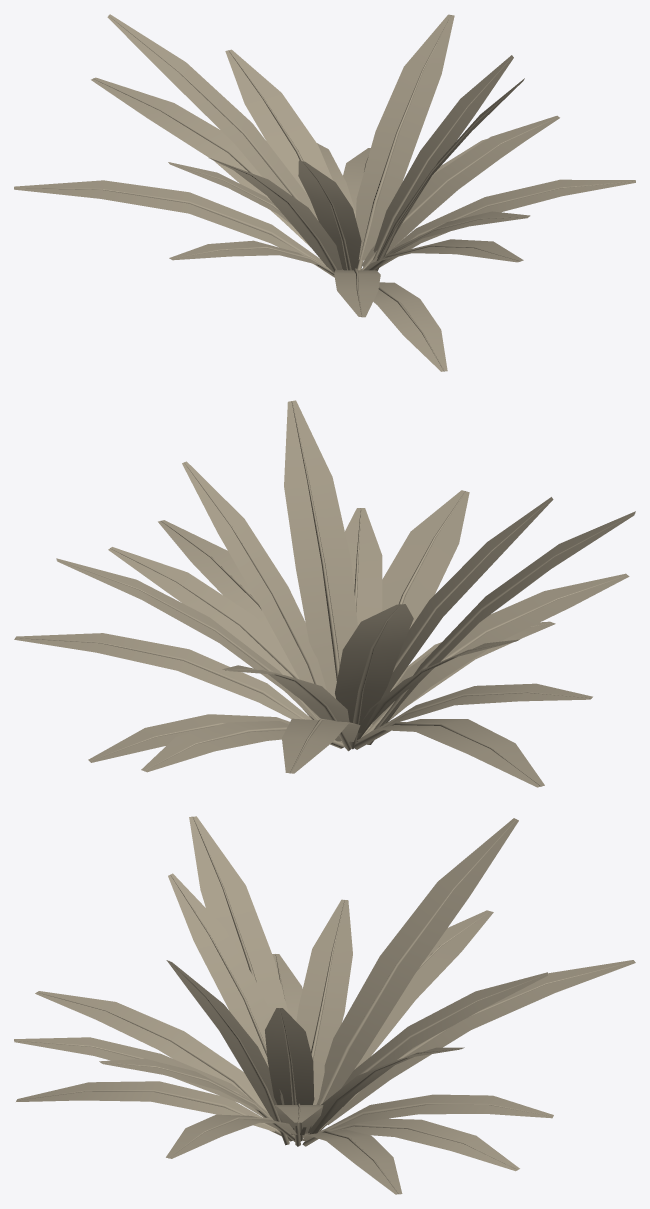
Rendered from SM_IndoorPlant_Fern_01.fbx.
3 renders of one model, top to bottom at view 1: azimuth 30°, elevation 25°; view 2: azimuth 150°, elevation 25°; view 3: azimuth 270°, elevation 25°, orthographic. The views are drawn at different scales.
Visible parts, largest first — view 1: S_IndoorPlant_Fern_01; view 2: S_IndoorPlant_Fern_01; view 3: S_IndoorPlant_Fern_01.
Part boxes in pixels (x1,y1,x2,y2): S_IndoorPlant_Fern_01: (14, 14, 635, 371); S_IndoorPlant_Fern_01: (14, 400, 635, 787); S_IndoorPlant_Fern_01: (14, 816, 635, 1194).
Size of the model in its own units: 58.89 by 26.15 by 59.99.
